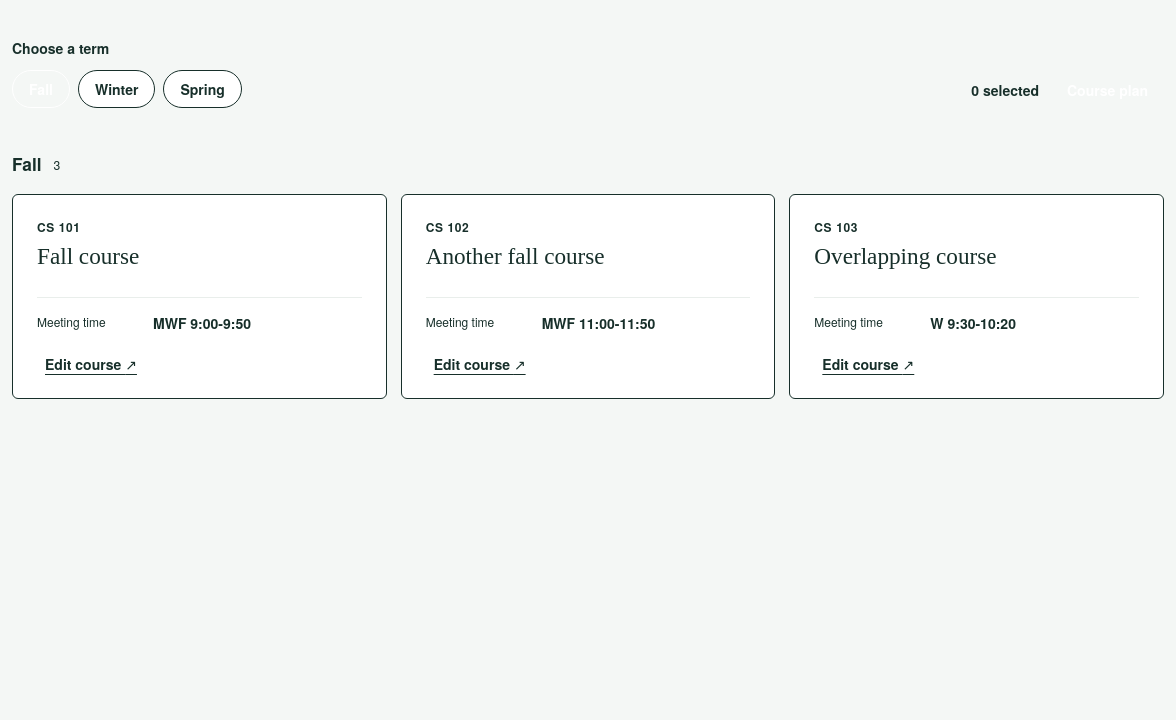
Test: TermPage › keeps Edit available on a course blocked by a time conflict
Click the button named "Select CS 101:": (199, 296) [13, 195, 386, 398]
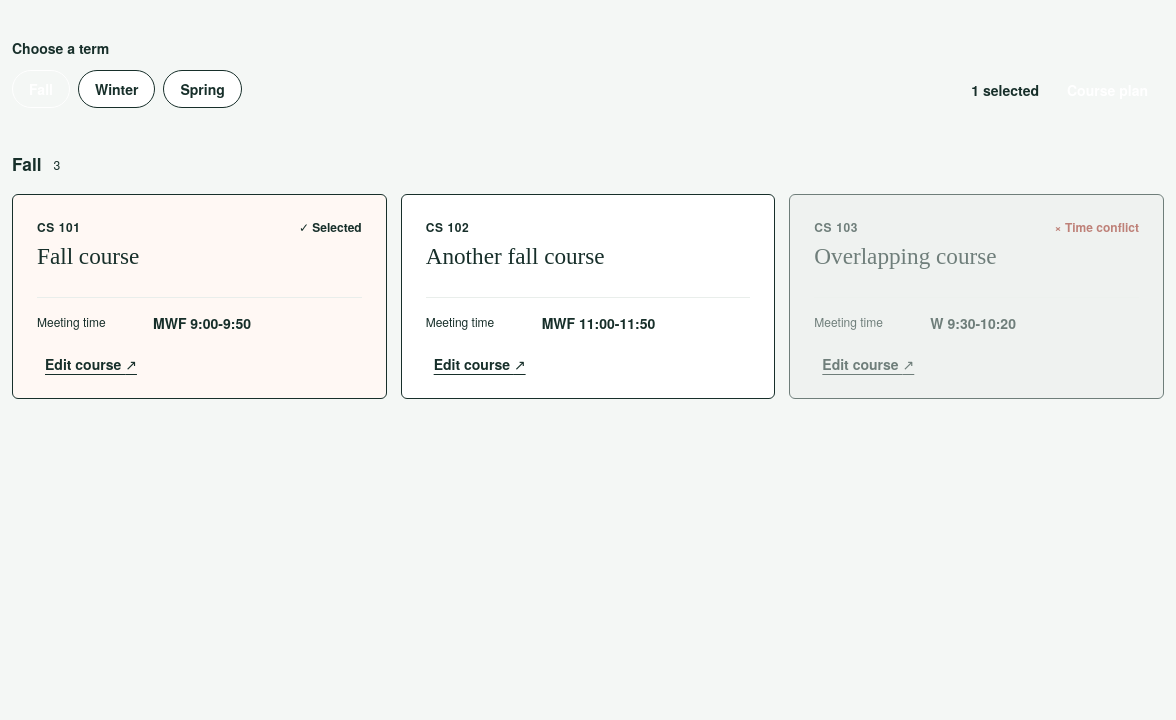
Now the button named "Select CS 103:" is disabled, box [790, 195, 1163, 398]
Click the link with aria-label "Edit CS 103:": (868, 364) [814, 350, 922, 378]
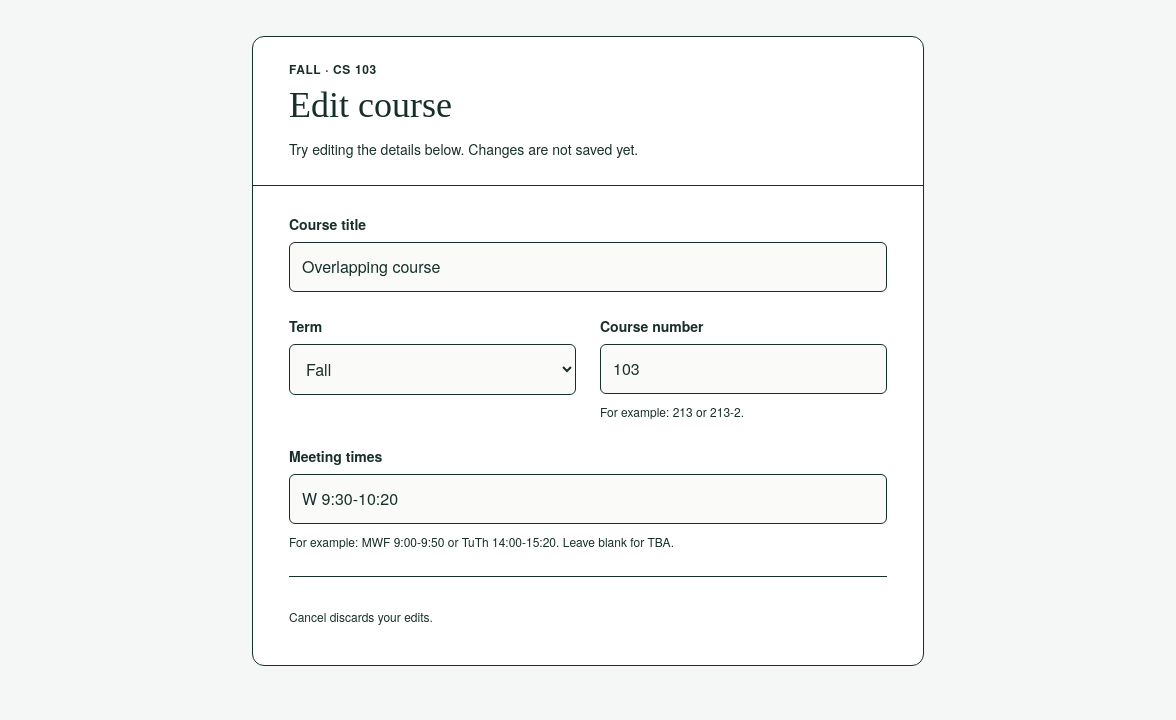
Now the field labelled "Course title" holds "Overlapping course", box [289, 242, 887, 292]
